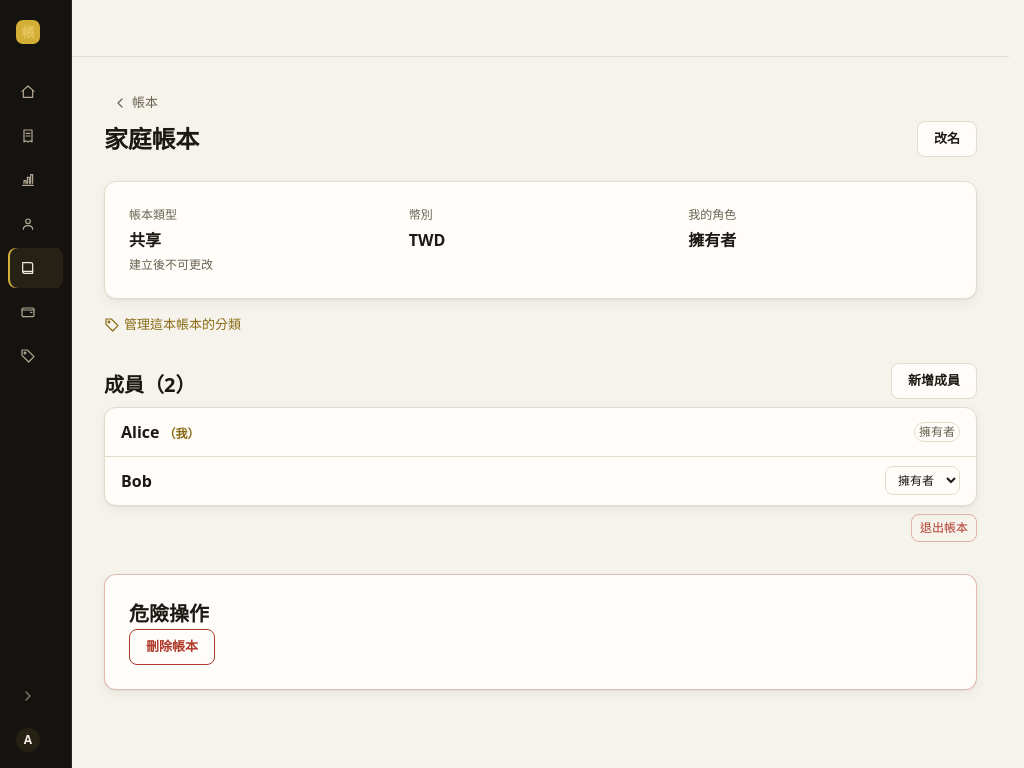
Ledger members › puts a failed role change under that row, not at the top of the page
Select "唯讀" in the dropdown named "Bob的角色" at (922, 480), box x1=885 y1=466 x2=960 y2=495
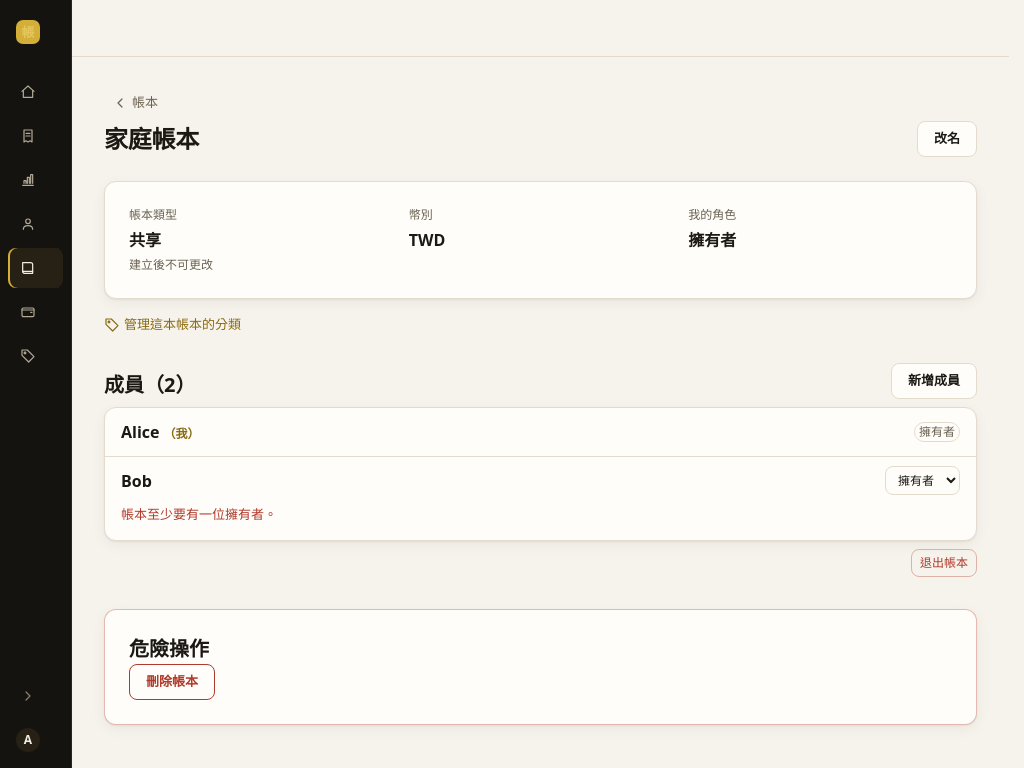
Expected: the message shows "至少要有一位擁有者", x1=121 y1=504 x2=277 y2=522
